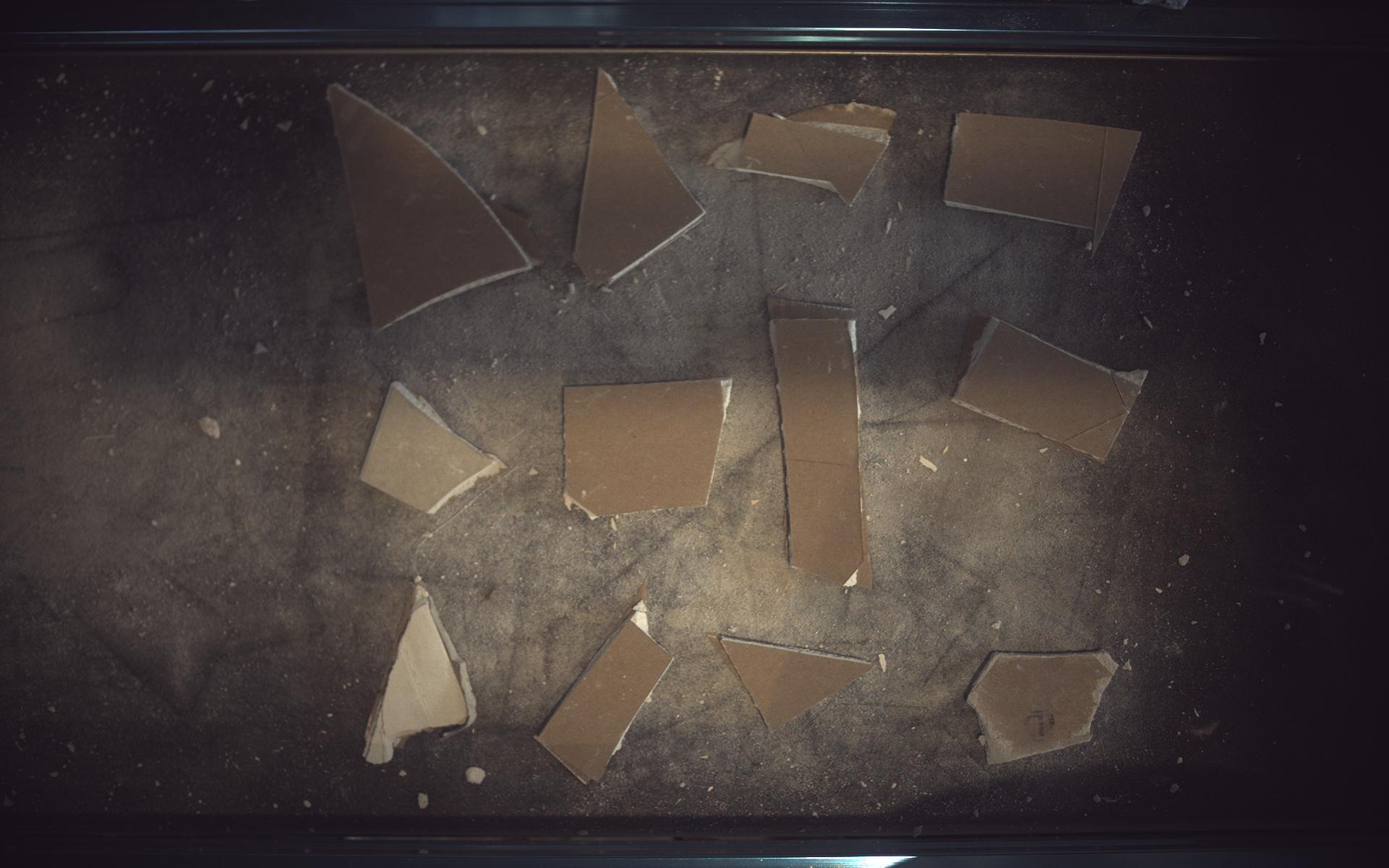gypsum_board: (327, 82, 532, 330), (769, 297, 873, 589), (955, 313, 1150, 461), (574, 67, 705, 284), (946, 111, 1143, 251), (538, 583, 674, 784), (564, 379, 734, 519), (364, 577, 477, 765), (709, 101, 899, 204), (360, 382, 506, 515), (969, 652, 1121, 765), (723, 637, 873, 731)
